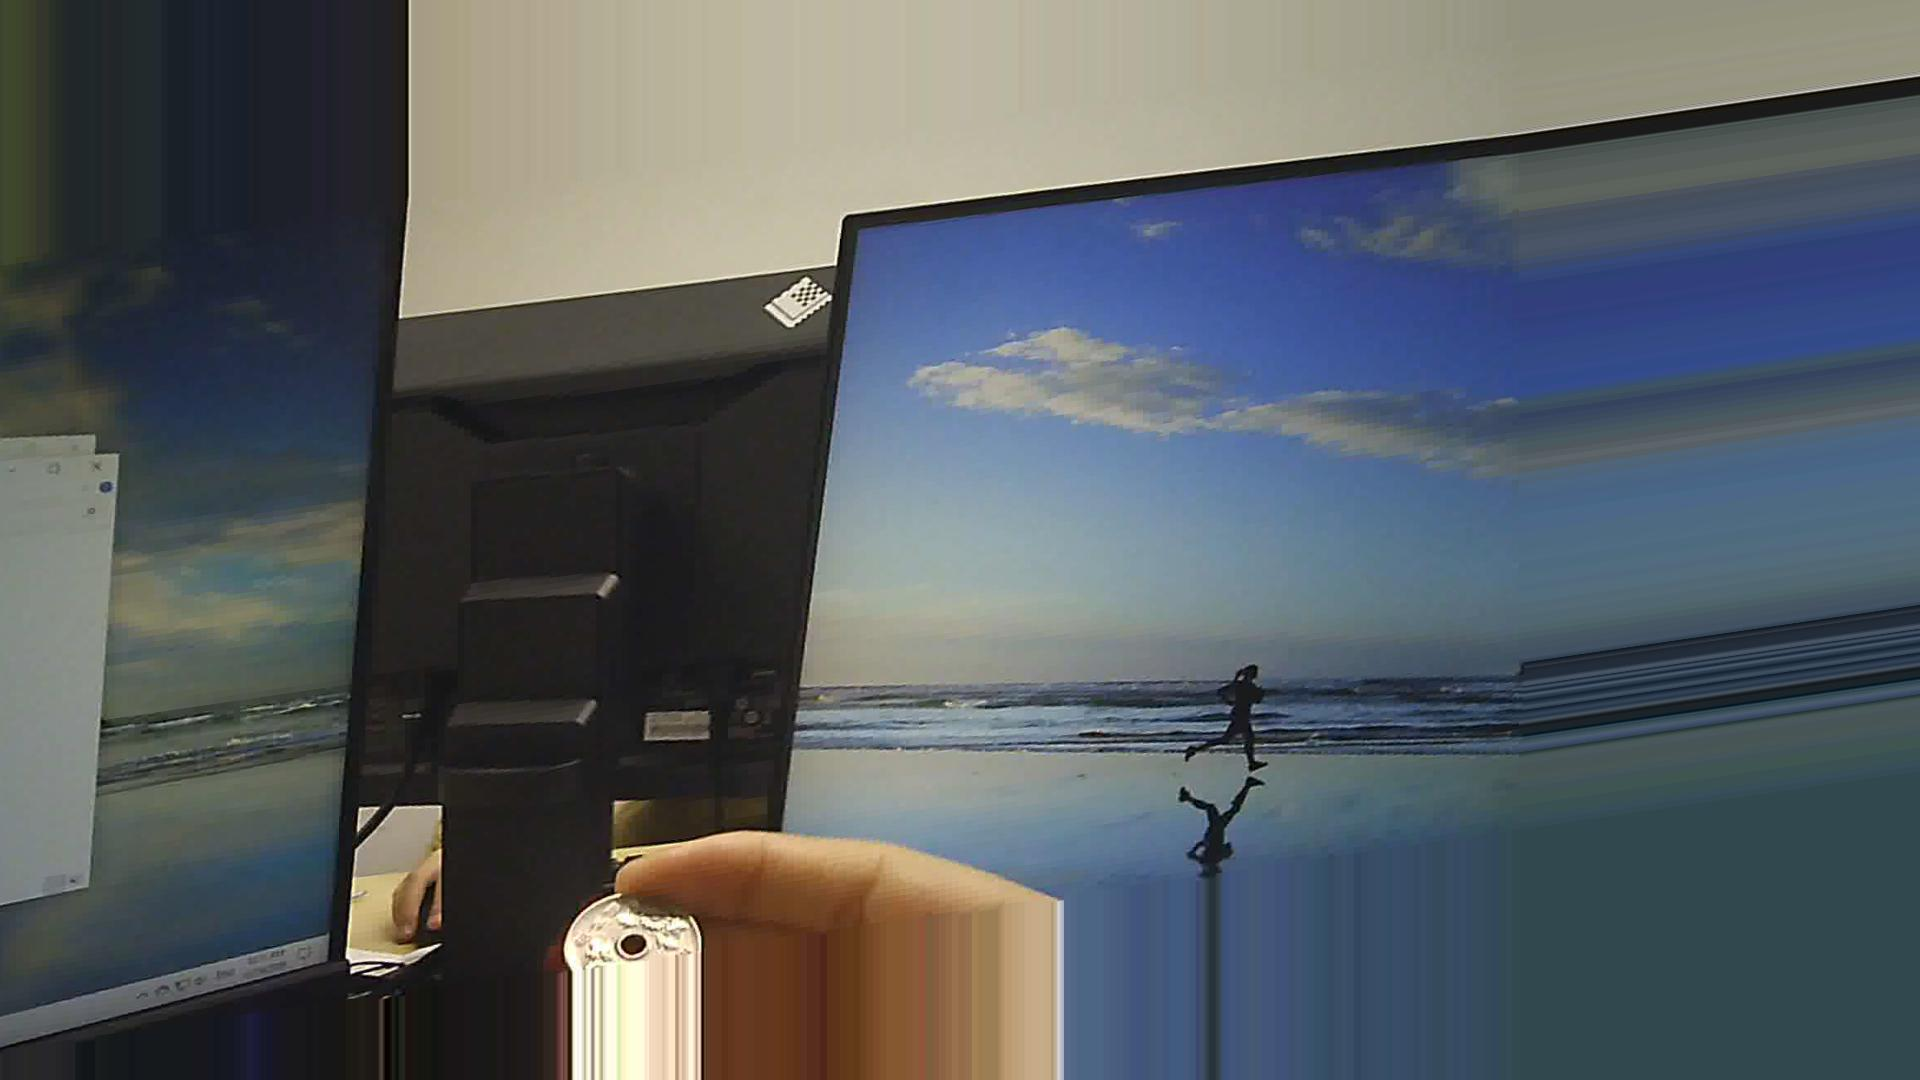50 Yen: (553, 881, 723, 981)
